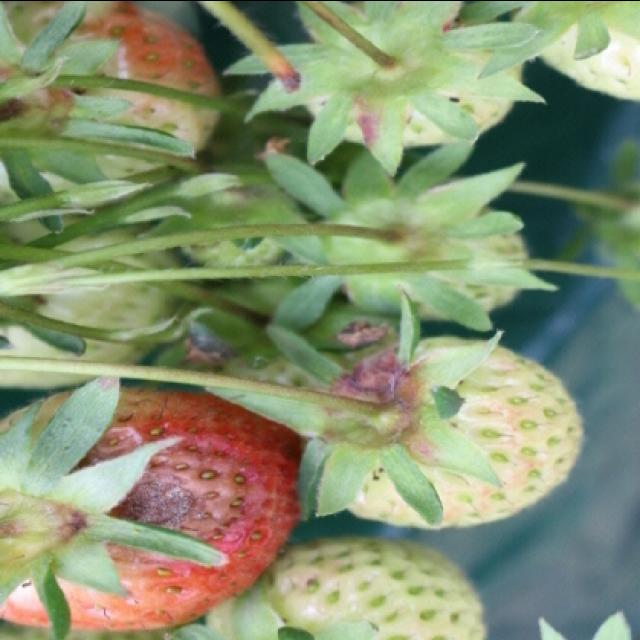Gray Mold: (70, 420, 282, 555)
